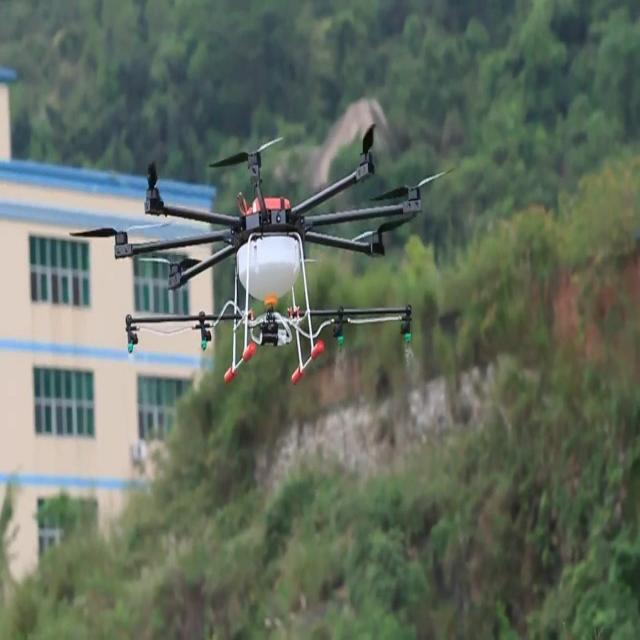UAV: (70, 124, 452, 384)
